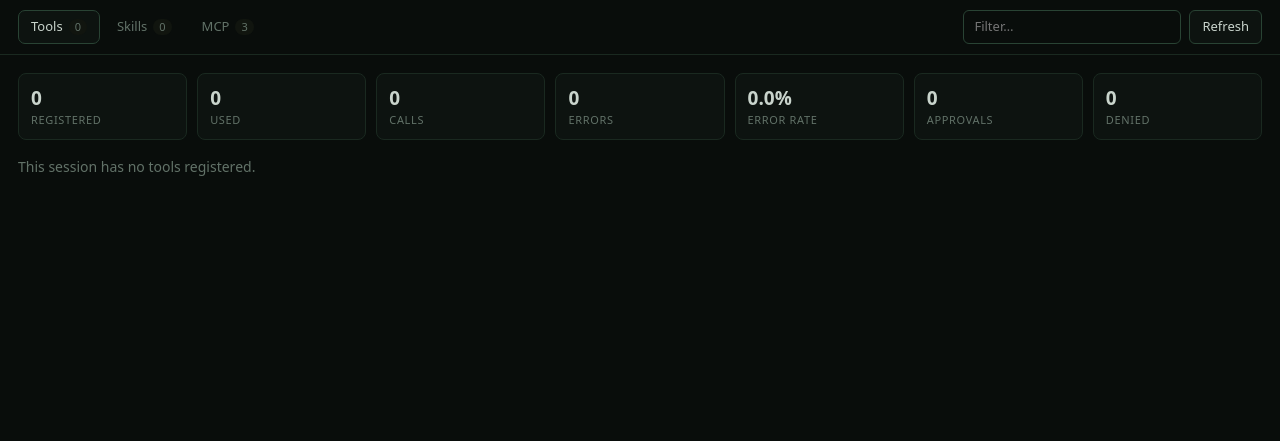
ToolsPage MCP tab › shows a configuration warning from the backend
The width and height of the screenshot is (1280, 441).
Click the button "MCP 3" at [228, 27], box [189, 10, 267, 44]
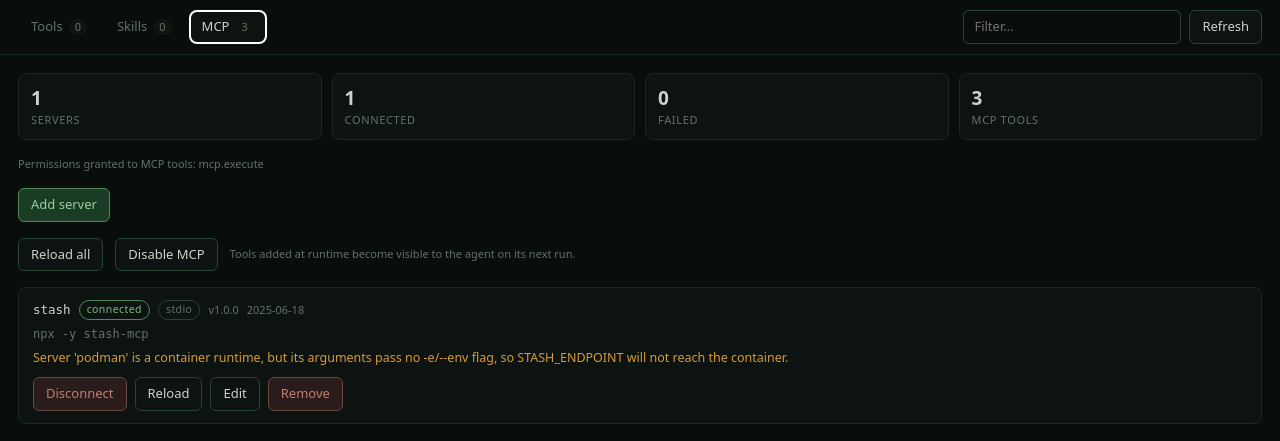
Expected: the text "will not reach the container" is shown, [33, 348, 788, 366]
